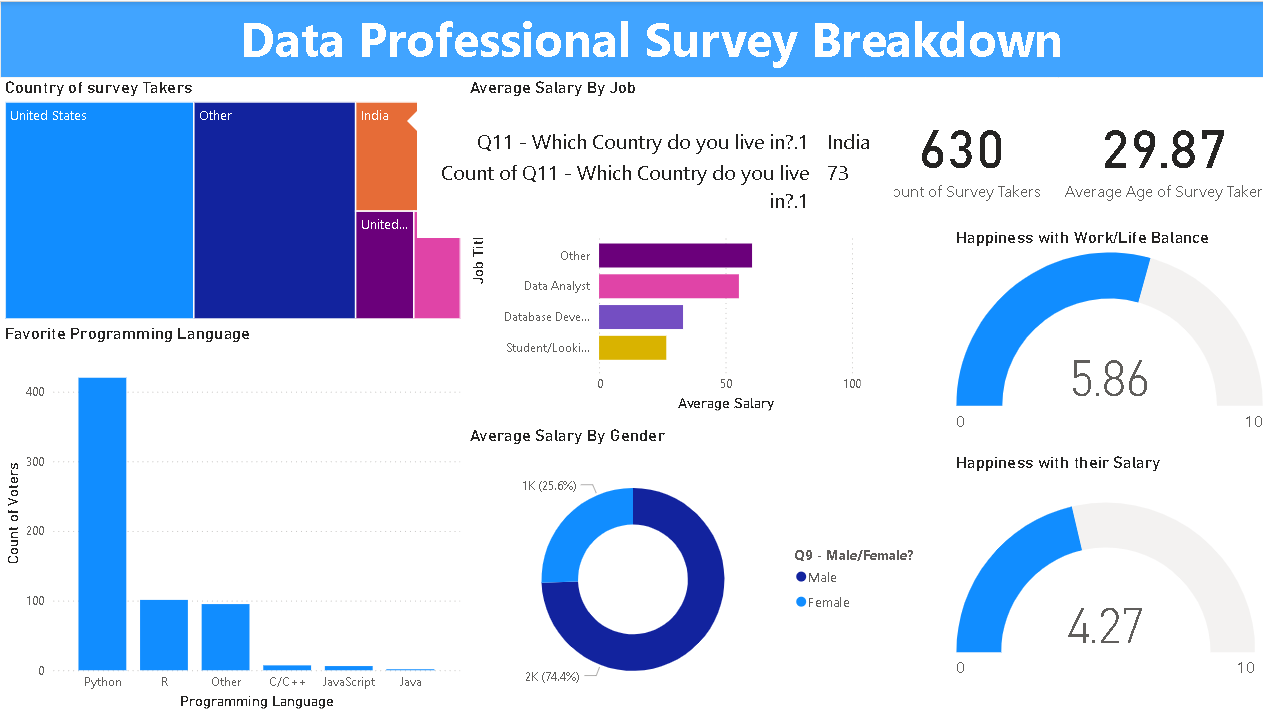

Layout of this report page (visuals, bound fields, positions):
{"tool":"powerbi","page":{"name":"Page 1","canvas":[1280,720],"ordinal":0},"visuals":[{"type":"textbox","box":[9.4,0,1269.9,117.2],"z":0},{"type":"textbox","box":[0,0,1279.5,77.2],"z":1000},{"type":"card","fields":{"Values":["CountNonNull(Data Professional Survey.Unique ID)"]},"box":[873.7,77.2,193.8,151.4],"z":2000},{"type":"card","fields":{"Values":["Avg(Data Professional Survey.Q10 - Current Age)"]},"box":[1069,77.2,210.5,151.4],"z":3000},{"type":"barChart","title":"Average Salary By Job","fields":{"Category":["Data Professional Survey.Q1 - Which Title Best Fits your Current Role?.1"],"Y":["Avg(Data Professional Survey.Average Salary)"],"Series":["Data Professional Survey.Q1 - Which Title Best Fits your Current Role?.1"]},"box":[469.4,77.2,404.3,340.7],"z":4000},{"type":"columnChart","title":"Favorite Programming Language","fields":{"Category":["Data Professional Survey.Q5 - Favorite Programming Language.1"],"Y":["CountNonNull(Data Professional Survey.Unique ID)"]},"box":[0,325.6,469.4,393.7],"z":5000},{"type":"treemap","title":"Country of survey Takers","fields":{"Group":["Data Professional Survey.Q11 - Which Country do you live in?.1"],"Values":["CountNonNull(Data Professional Survey.Q11 - Which Country do you live in?.1)"]},"box":[0,77.2,469.4,248.3],"z":6000},{"type":"gauge","title":"Happiness with Work/Life Balance","fields":{"Y":["Avg(Data Professional Survey.Q6 - How Happy are you in your Current Position with the following? (Coworkers))"],"MinValue":["Min(Data Professional Survey.Q6 - How Happy are you in your Current Position with the following? (Coworkers))"],"MaxValue":["Max(Data Professional Survey.Q6 - How Happy are you in your Current Position with the following? (Coworkers))"]},"box":[960,228.6,319.5,216.5],"z":7000},{"type":"gauge","title":"Happiness with their Salary","fields":{"Y":["Avg(Data Professional Survey.Q6 - How Happy are you in your Current Position with the following? (Salary))"],"MinValue":["Min(Data Professional Survey.Q6 - How Happy are you in your Current Position with the following? (Salary))"],"MaxValue":["Max(Data Professional Survey.Q6 - How Happy are you in your Current Position with the following? (Salary))"]},"box":[960,455.8,311.9,263.5],"z":8000},{"type":"donutChart","title":"Average Salary By Gender","fields":{"Category":["Data Professional Survey.Q9 - Male/Female?"],"Y":["Sum(Data Professional Survey.Q6 - How Happy are you in your Current Position with the following? (Salary))"]},"box":[469.4,428.5,472.4,290.7],"z":9000}]}

Visuals, with their boxes in screenshot pixels (x1, y1, x2, y2), scaled from the page's 1280x720 canvas onto the 1263x712 screenshot:
textbox: 9,0,1262,116
textbox: 0,0,1262,76
card - CountNonNull(Data Professional Survey.Unique ID): 862,76,1053,226
card - Avg(Data Professional Survey.Q10 - Current Age): 1055,76,1262,226
"Average Salary By Job" barChart: 463,76,862,413
"Favorite Programming Language" columnChart: 0,322,463,711
"Country of survey Takers" treemap: 0,76,463,322
"Happiness with Work/Life Balance" gauge: 947,226,1262,440
"Happiness with their Salary" gauge: 947,451,1255,711
"Average Salary By Gender" donutChart: 463,424,929,711
